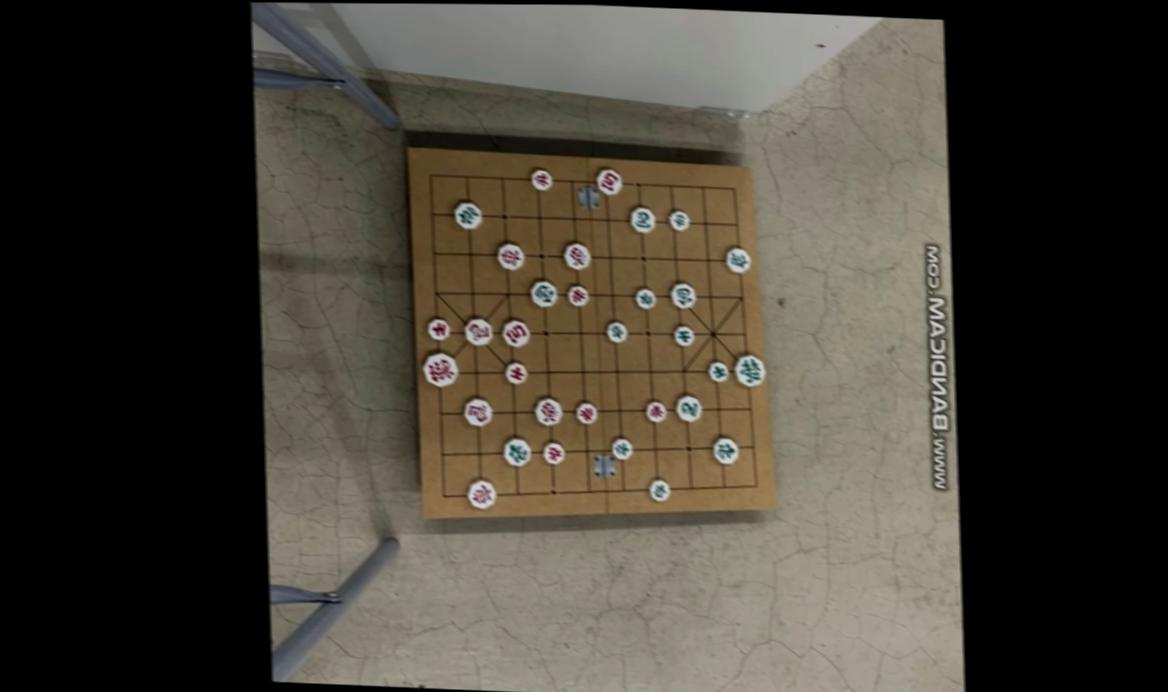cha_green: (452, 198, 481, 228), (724, 244, 751, 273)
cha_red: (466, 477, 496, 509), (495, 240, 524, 270)
jol_green: (647, 476, 669, 501), (605, 318, 627, 342), (609, 435, 631, 459), (633, 285, 655, 308), (667, 207, 688, 229)
jol_red: (541, 439, 564, 465), (644, 399, 666, 423), (575, 400, 597, 424), (567, 282, 589, 306), (530, 166, 551, 190)
ma_green: (674, 392, 702, 421), (628, 204, 655, 232)
ma_red: (462, 395, 492, 427), (463, 315, 493, 346)
po_green: (528, 277, 557, 307), (668, 281, 695, 309)
po_red: (498, 317, 528, 347), (594, 167, 622, 194)
sa_green: (705, 359, 729, 382), (673, 322, 694, 345)
sa_red: (502, 359, 527, 384), (426, 315, 450, 341)
sang_green: (501, 435, 531, 467), (711, 435, 737, 465)
sang_red: (562, 240, 592, 271), (533, 395, 563, 426)
wang_green: (732, 351, 765, 385)
wang_red: (421, 349, 458, 388)
